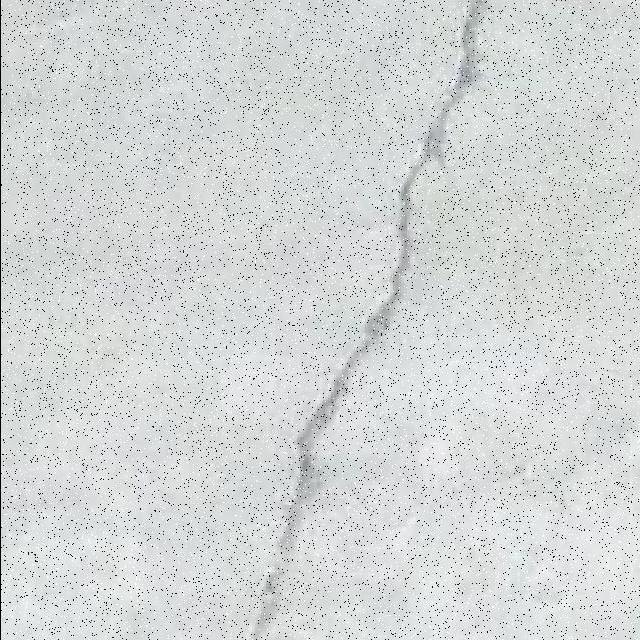Crack: (245, 0, 486, 637)
